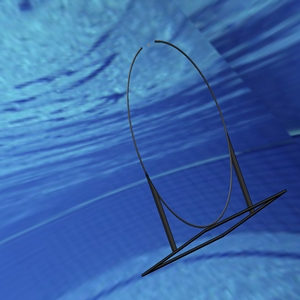circle: (124, 38, 285, 275)
